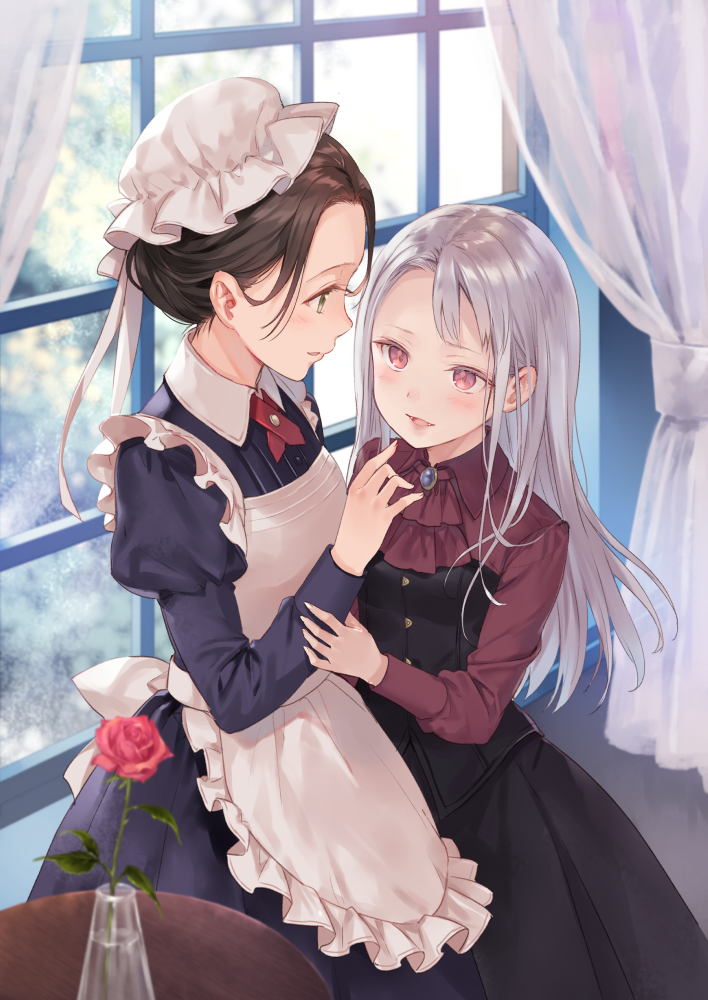纸片人正脸: (347, 202, 584, 461)
